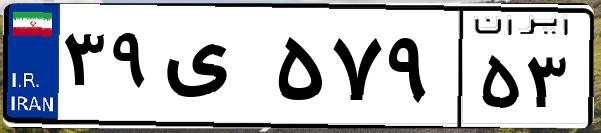3: (57, 26, 110, 100), (525, 38, 570, 115)
5: (270, 28, 330, 110), (475, 38, 525, 113)
7: (330, 28, 385, 110)
9: (385, 28, 445, 110), (110, 28, 158, 98)
ی: (158, 20, 270, 120)
